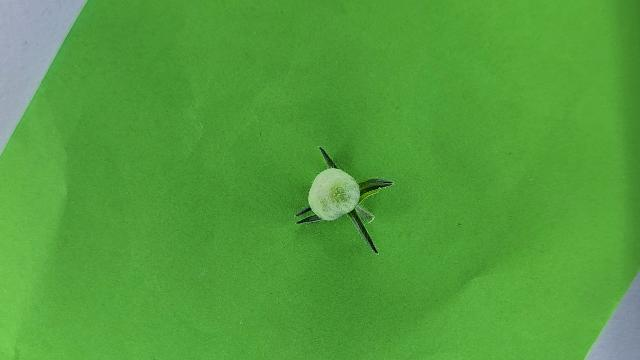Fruit Maturation: (307, 167, 361, 221)
